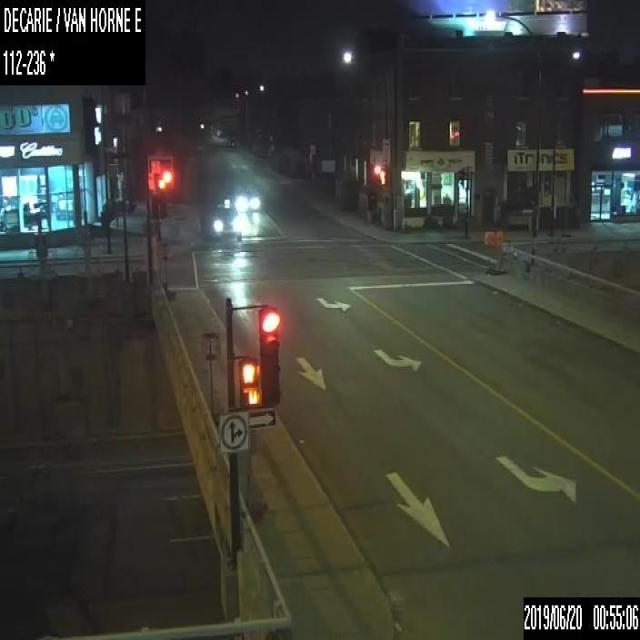construction: (242, 427, 265, 522), (203, 331, 219, 424), (158, 234, 176, 300), (482, 229, 494, 273), (495, 229, 503, 273)
vehicle: (211, 197, 241, 237), (235, 188, 261, 212)
